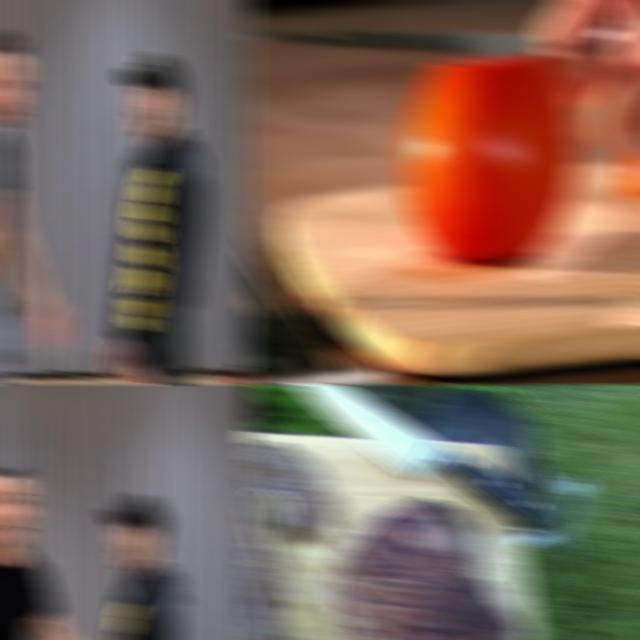Knife_Handle: (243, 0, 640, 155), (0, 341, 17, 384)
